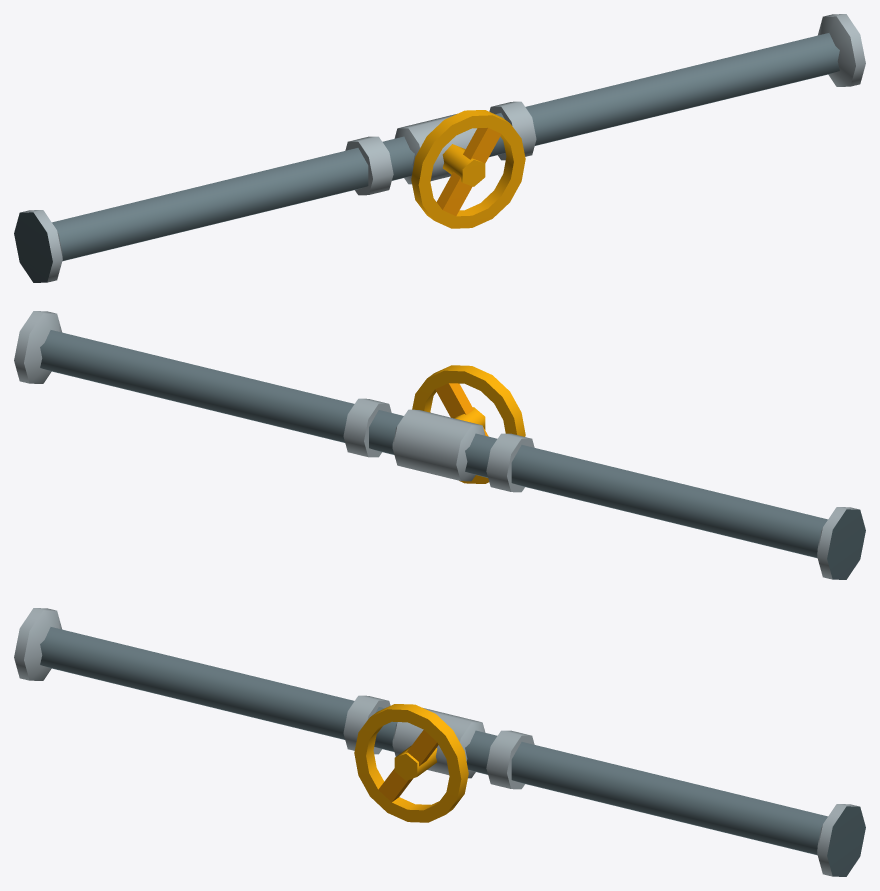
File: Pipe_001.fbx
3 views of the same model, one above another, from view 1: azimuth 30°, elevation 25°; view 2: azimuth 150°, elevation 25°; view 3: azimuth 330°, elevation 25° (orthographic).
Parts seen in each view (by area): view 1: Pipe_001; view 2: Pipe_001; view 3: Pipe_001.
Boxes of the visible parts, x1,y1,x2,y2 form: Pipe_001: [14, 14, 865, 282]; Pipe_001: [14, 311, 865, 579]; Pipe_001: [14, 608, 865, 876].
Size of the model in its own units: 307 by 34.98 by 40.48.
